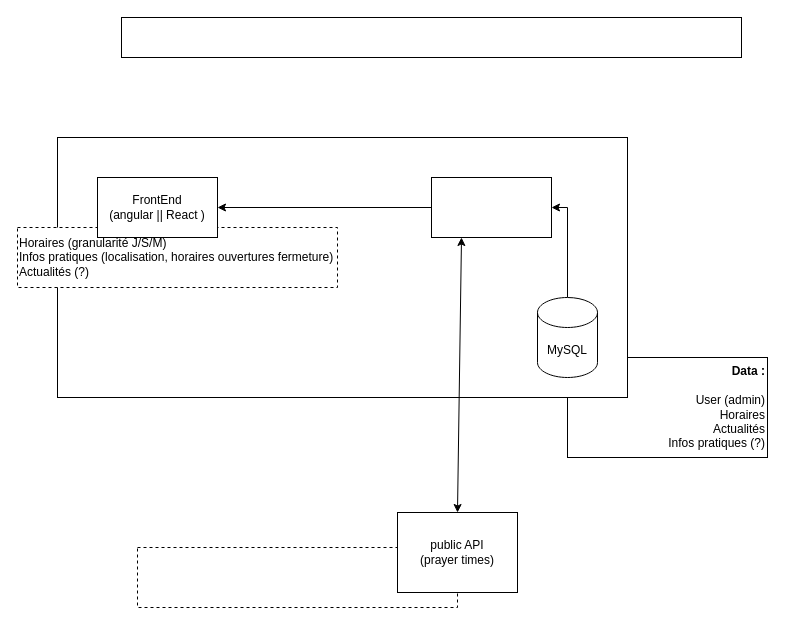
Image size: 785x625. Some labels were removed from this diagram. The shapes that lost their labels are listed below. From the top down, each one's box as (x1, y1, x2, y2) in pixels, then its label:
(120, 16, 742, 58): PrayOnTime architecture
(430, 176, 552, 238): BackEnd (angular || React )
(136, 546, 458, 608): API KEY LAT/LONG or ADdRESS (by address) CITY (by city) COUNTRY (by country)
